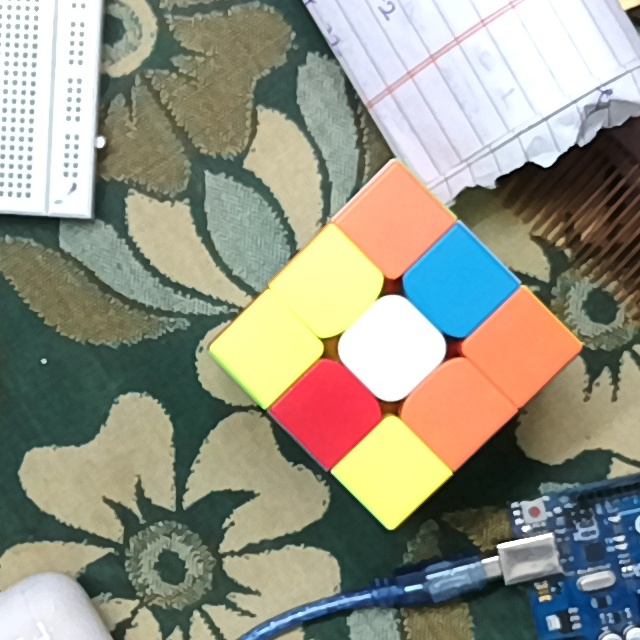tile: (364, 194, 423, 252), (364, 318, 425, 374), (425, 382, 484, 438), (495, 316, 551, 374), (239, 320, 294, 379), (432, 253, 486, 313), (300, 380, 354, 438), (363, 447, 424, 497), (303, 258, 359, 309)
